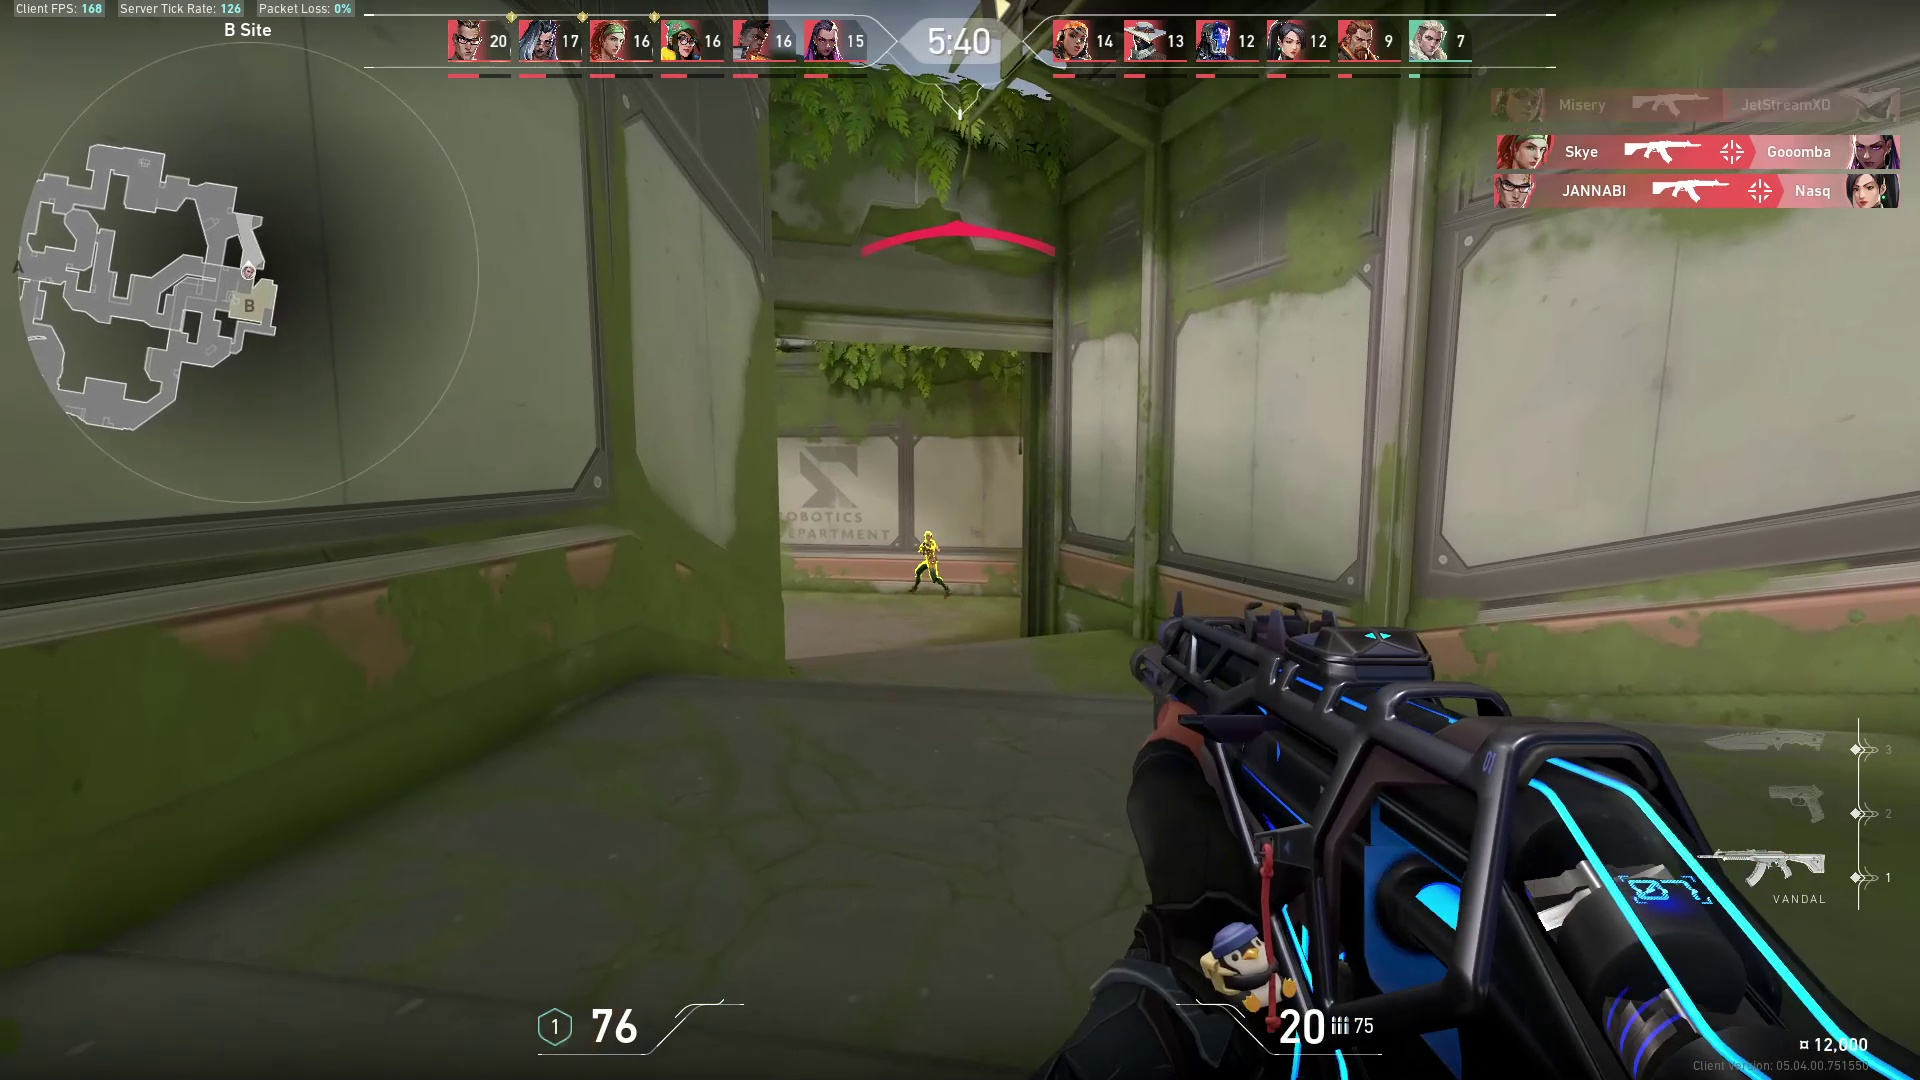enemy_body: (910, 542, 952, 600)
enemy_head: (922, 529, 935, 542)
